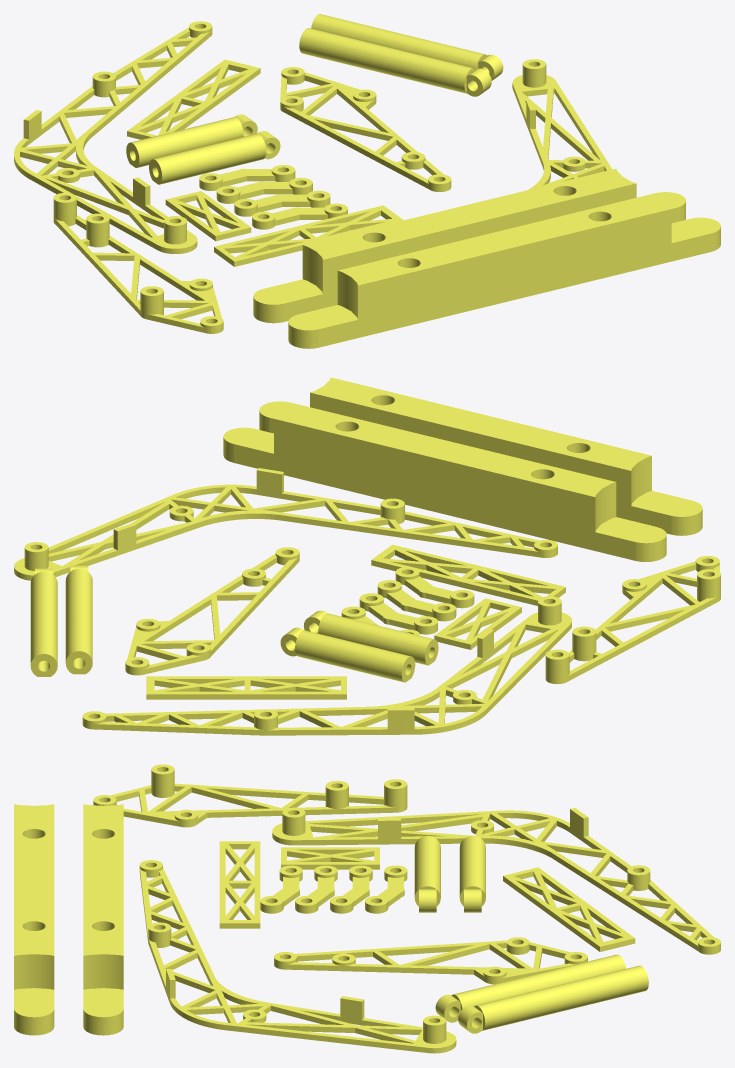
Rendered from Excavator_yellow.dae.
3 renders of one model, top to bottom at view 1: azimuth 30°, elevation 25°; view 2: azimuth 150°, elevation 25°; view 3: azimuth 270°, elevation 25°, orthographic. The views are drawn at different scales.
Parts seen in each view (by area): view 1: group_9, group_4, group_12 (×3), group_11, Bucket_Arm (×4), group_13, group_1, group_10 (×2), group_8, group_3, group_7, group_5 (+2 smaller); view 2: group_4, group_9, group_10 (×3), group_12 (×2), group_11, group_13, Bucket_Arm (×3), group_5, group_7, group_6, group_8, group_1 (+2 smaller); view 3: group_12 (×4), group_10 (×4), group_9, group_4, group_11 (×3), group_13 (×3), group_3 (×2), Bucket_Arm (×4), group_1 (×2), group_5, group_7, group_2 (+2 smaller).
Boxes of the visible parts, left/top/right/bottom form: group_9: left=288, top=194, right=720, bottom=348; group_4: left=253, top=168, right=685, bottom=323; group_12 (×3): left=14, top=21, right=212, bottom=253; group_11: left=53, top=193, right=223, bottom=333; Bucket_Arm (×4): left=199, top=165, right=347, bottom=229; group_13: left=280, top=67, right=451, bottom=191; group_1: left=299, top=28, right=475, bottom=93; group_10 (×2): left=512, top=59, right=611, bottom=189; group_8: left=149, top=134, right=266, bottom=184; group_3: left=311, top=14, right=486, bottom=68; group_7: left=214, top=205, right=403, bottom=266; group_5: left=127, top=59, right=260, bottom=139; group_4: left=223, top=403, right=666, bottom=561; group_9: left=259, top=377, right=702, bottom=535; group_10 (×3): left=14, top=468, right=557, bottom=580; group_12 (×2): left=82, top=596, right=571, bottom=735; group_11: left=545, top=556, right=720, bottom=684; group_13: left=125, top=547, right=299, bottom=675; Bucket_Arm (×3): left=359, top=567, right=474, bottom=634; group_5: left=146, top=676, right=346, bottom=699; group_7: left=371, top=544, right=565, bottom=605; group_6: left=295, top=630, right=415, bottom=682; group_8: left=318, top=613, right=438, bottom=665; group_1: left=65, top=568, right=92, bottom=674; group_12 (×4): left=272, top=807, right=720, bottom=954; group_10 (×4): left=139, top=860, right=456, bottom=1053; group_9: left=14, top=804, right=54, bottom=1035; group_4: left=83, top=804, right=123, bottom=1035; group_11 (×3): left=93, top=764, right=407, bottom=827; group_13 (×3): left=274, top=937, right=587, bottom=984; group_3 (×2): left=458, top=965, right=648, bottom=1033; Bucket_Arm (×4): left=260, top=865, right=407, bottom=913; group_1 (×2): left=435, top=954, right=625, bottom=1022; group_5: left=503, top=867, right=635, bottom=951; group_7: left=219, top=841, right=260, bottom=928; group_2: left=281, top=847, right=379, bottom=869.
Bounding box in the file's own units: 5.4 × 6.08 × 0.52.
